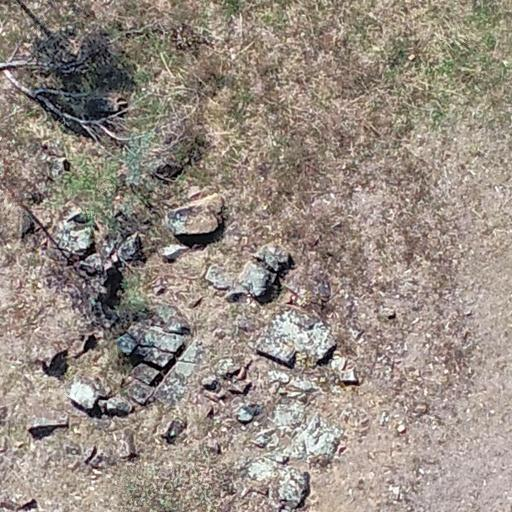stone: (236, 454, 312, 510), (282, 409, 346, 465), (165, 191, 227, 244), (292, 321, 338, 366), (44, 226, 98, 264), (236, 261, 276, 301), (252, 244, 300, 276), (138, 326, 188, 356), (252, 334, 296, 368), (66, 376, 104, 412), (1, 483, 42, 512), (113, 231, 145, 264), (26, 414, 69, 437), (154, 304, 190, 331), (39, 153, 72, 182), (204, 262, 238, 290), (127, 380, 159, 406), (231, 402, 265, 426), (115, 430, 140, 460), (160, 418, 186, 444), (190, 400, 216, 426), (102, 396, 134, 416), (82, 443, 106, 469), (78, 253, 104, 277), (335, 364, 360, 388), (54, 202, 84, 222), (250, 428, 278, 449), (75, 332, 99, 356), (212, 357, 238, 379), (116, 332, 139, 356), (160, 243, 190, 261), (266, 369, 292, 388), (227, 378, 252, 396), (313, 278, 331, 303), (204, 434, 226, 454), (202, 388, 228, 404), (224, 289, 248, 304), (201, 374, 221, 392), (234, 316, 256, 332), (63, 442, 83, 458), (186, 185, 203, 201), (268, 453, 290, 465), (153, 278, 167, 296), (412, 402, 430, 416), (388, 483, 402, 500), (378, 306, 396, 319), (188, 296, 204, 309), (268, 380, 281, 395), (378, 410, 390, 426), (212, 328, 228, 338), (397, 421, 408, 434), (463, 306, 474, 316), (408, 54, 416, 62)
